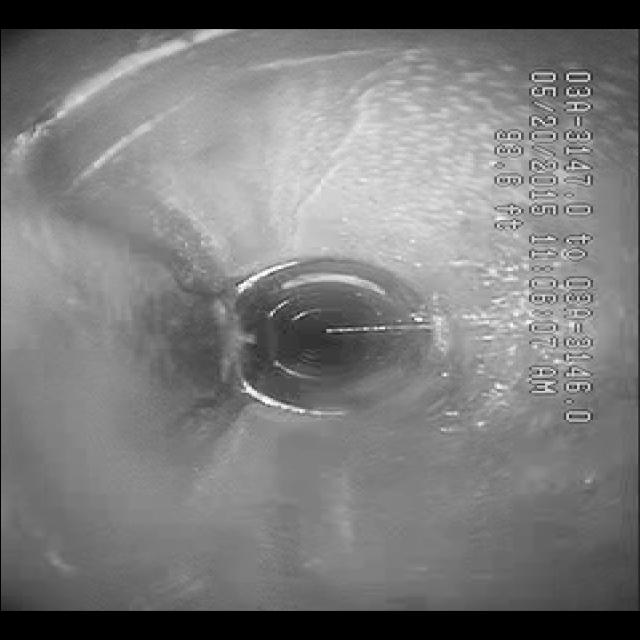Crack: (276, 61, 440, 249)
